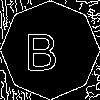B: (25, 25, 58, 70)
